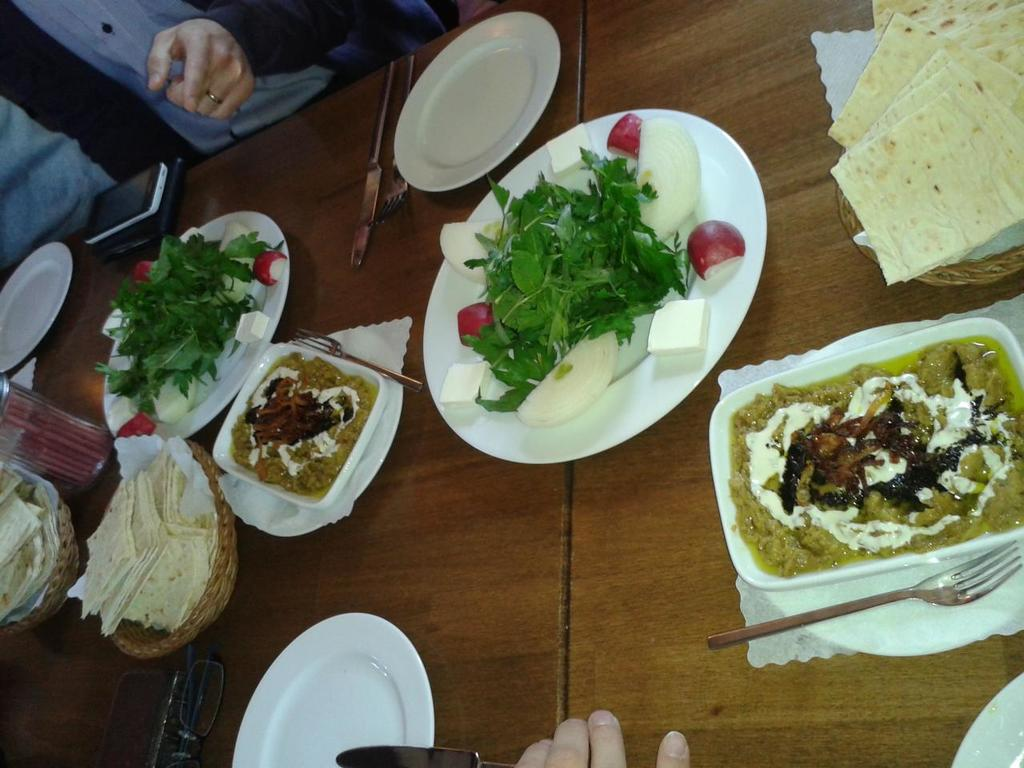plate: (224, 618, 449, 767), (392, 12, 557, 188)
